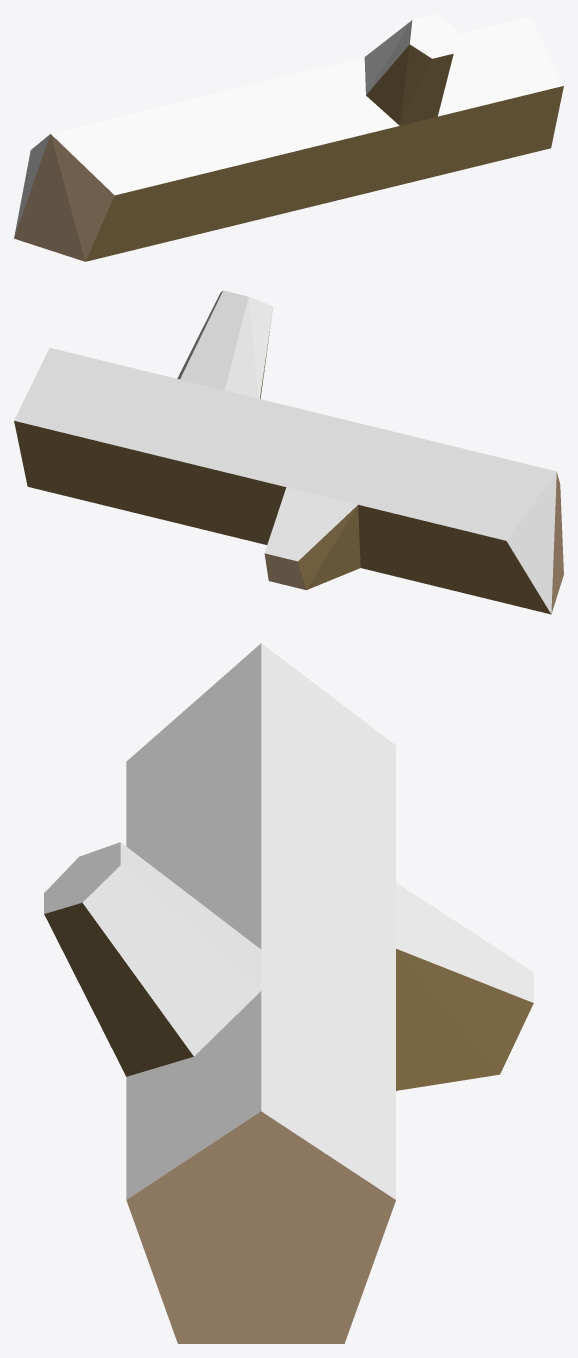
File: Oak_Firewood_Snow_02_LOD.fbx
The picture shows the model from 3 angles, top to bottom: view 1: azimuth 30°, elevation 25°; view 2: azimuth 150°, elevation 25°; view 3: azimuth 270°, elevation 25°; orthographic projection. The views are drawn at different scales.
Visible parts, largest first — view 1: Oak_Firewood_Snow_02_LOD0; view 2: Oak_Firewood_Snow_02_LOD0; view 3: Oak_Firewood_Snow_02_LOD0.
Part boxes in pixels (x1,y1,x2,y2): Oak_Firewood_Snow_02_LOD0: (14,14,563,261); Oak_Firewood_Snow_02_LOD0: (14,290,563,614); Oak_Firewood_Snow_02_LOD0: (44,643,533,1343).
Size of what is drawn, in the model's own units: 56 by 19.03 by 23.97.
